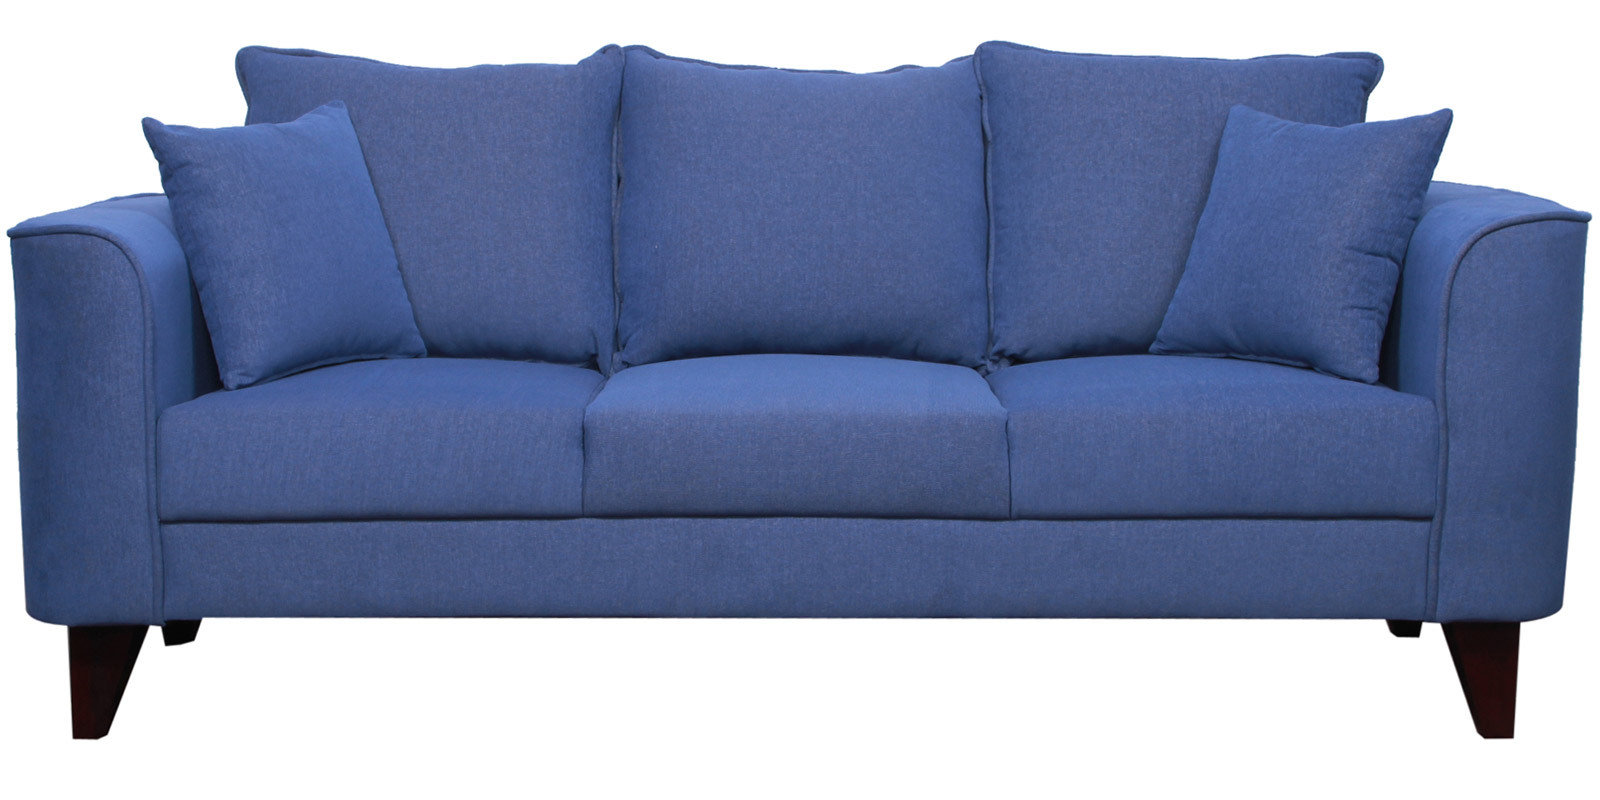Lara Three Seater Sofa in Denim Blue Colour by CasaCraft: (7, 37, 1592, 741)
